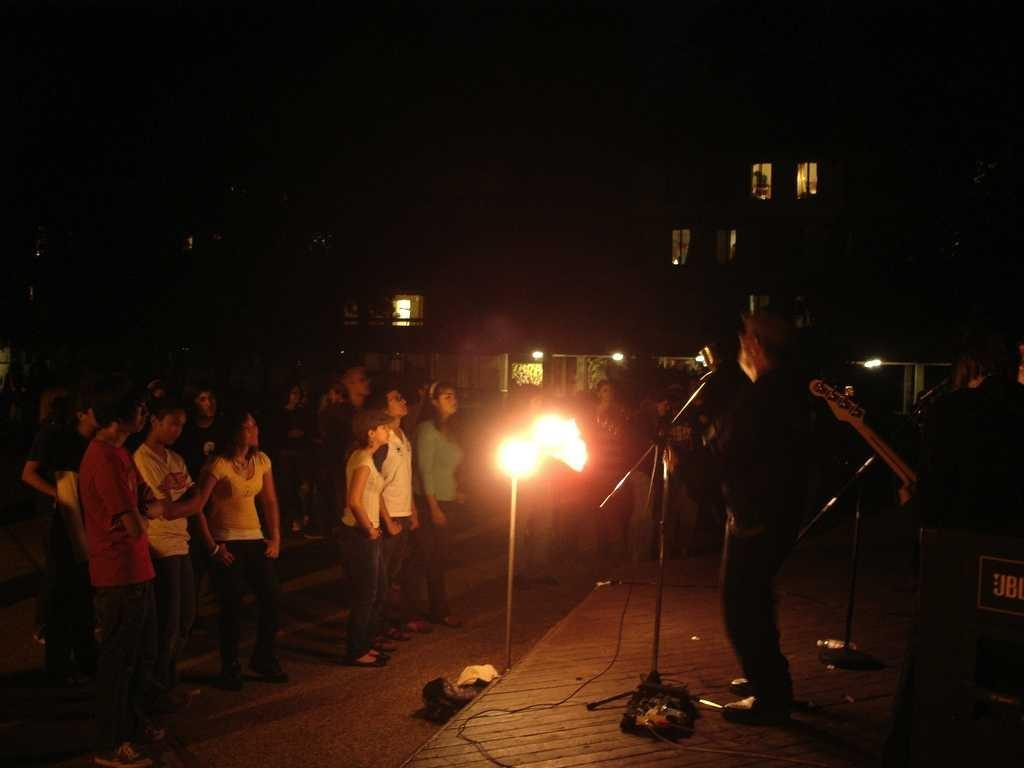fire: (496, 436, 550, 476), (536, 416, 590, 440)
